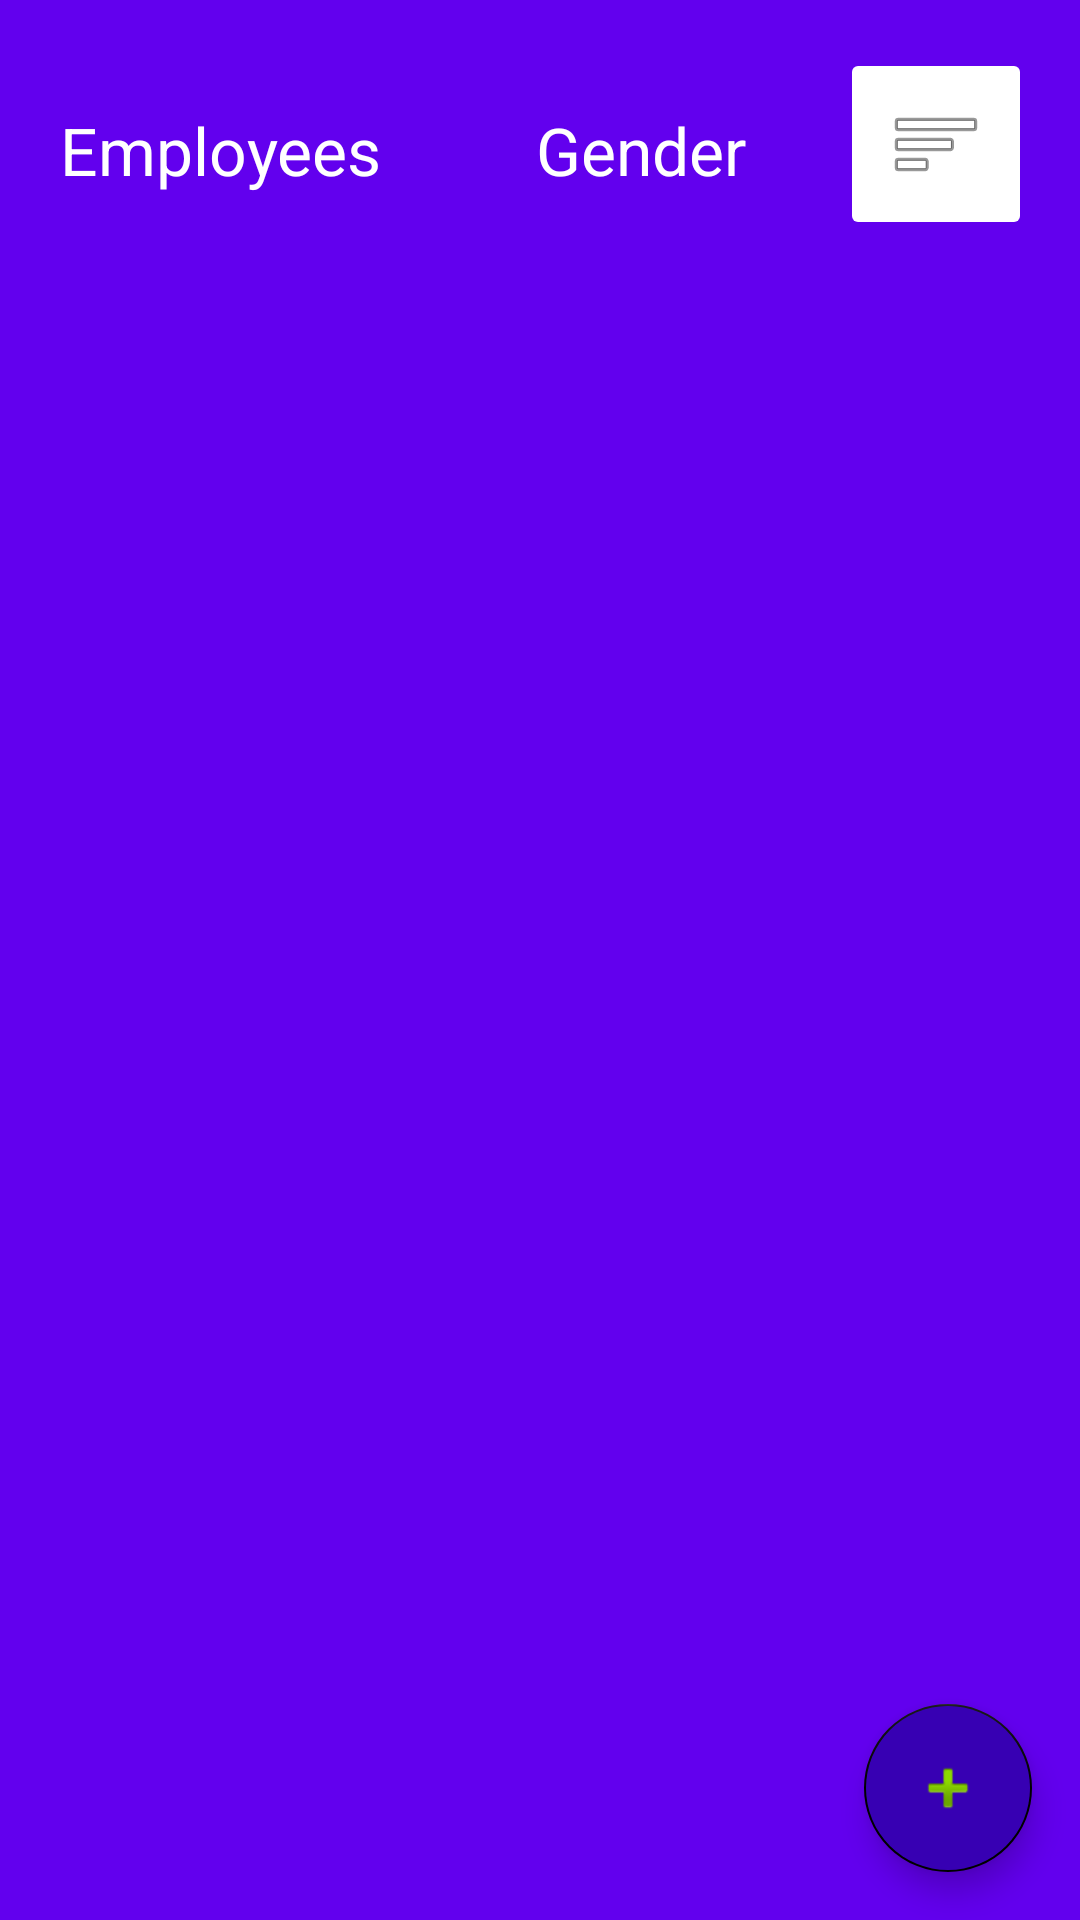

Named icons in this screenshot (1080w x 1920h) and their bounding boxes, (x1, y1, x2, y2):
add: (864, 1704, 1032, 1872)
sort by size: (852, 66, 1020, 222)
